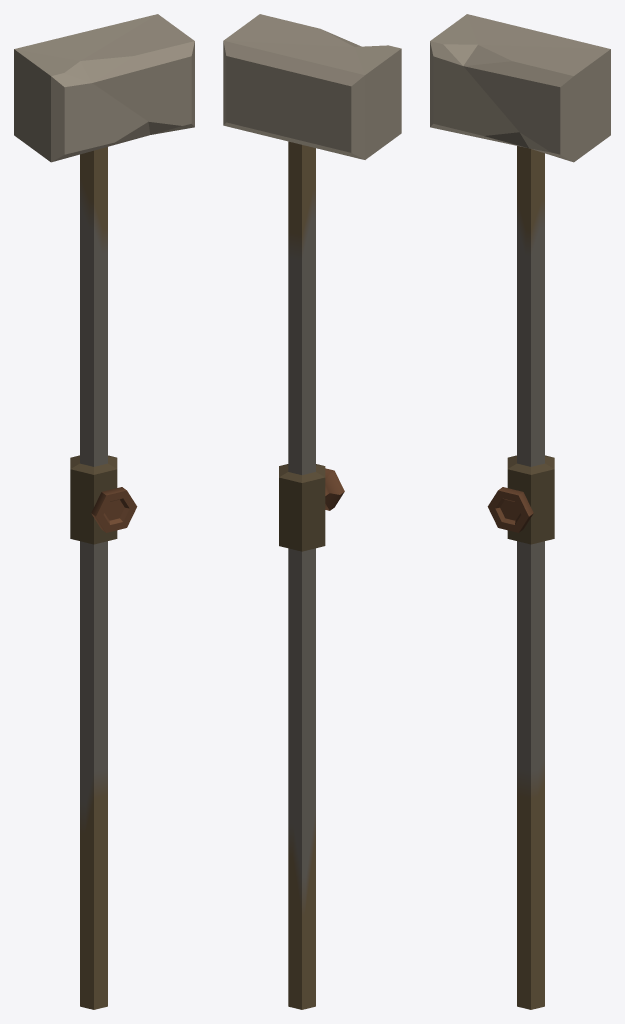
The model's file is SM_Prop_Bathroom_Pipes_02.fbx.
The picture shows the model from 3 angles, left to right: view 1: azimuth 30°, elevation 25°; view 2: azimuth 150°, elevation 25°; view 3: azimuth 330°, elevation 25°; orthographic projection.
Parts seen in each view (by area): view 1: SM_Prop_Bathroom_Pipes_02; view 2: SM_Prop_Bathroom_Pipes_02; view 3: SM_Prop_Bathroom_Pipes_02.
Part boxes in pixels (x1,y1,x2,y2): SM_Prop_Bathroom_Pipes_02: [14, 14, 194, 1009]; SM_Prop_Bathroom_Pipes_02: [223, 14, 401, 1009]; SM_Prop_Bathroom_Pipes_02: [430, 14, 610, 1009].
Bounding box in the file's own units: 33.19 × 213 × 19.03.
